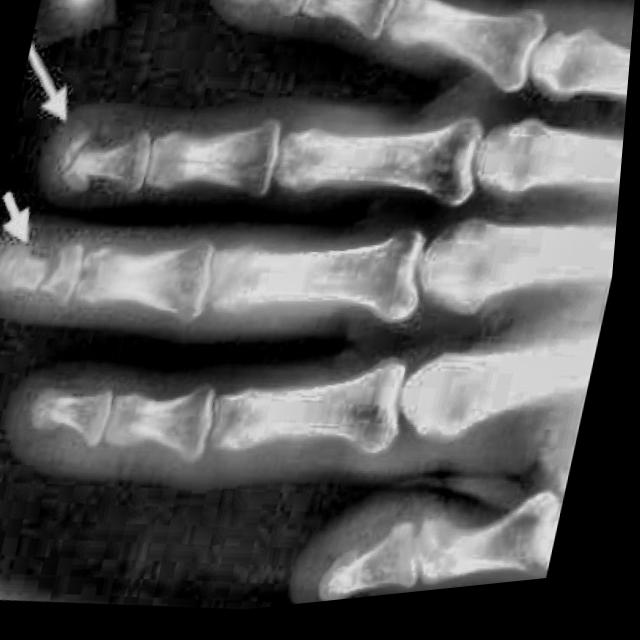fracture: (60, 127, 106, 191), (37, 244, 72, 298)
